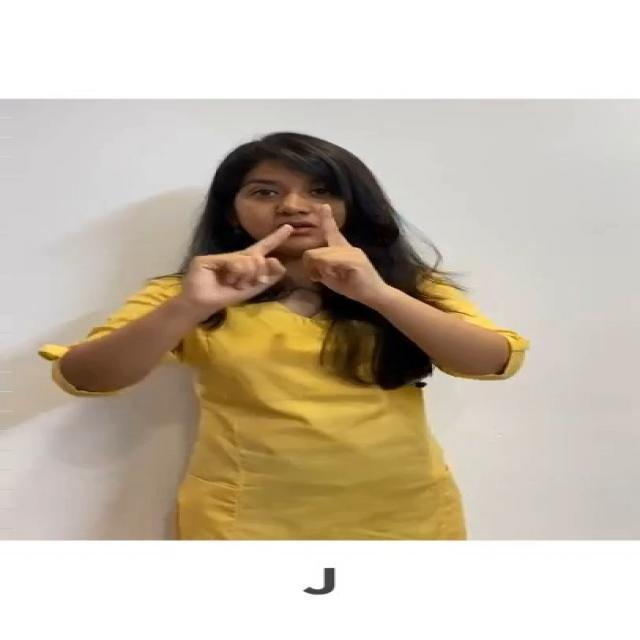J: (181, 196, 397, 331)
